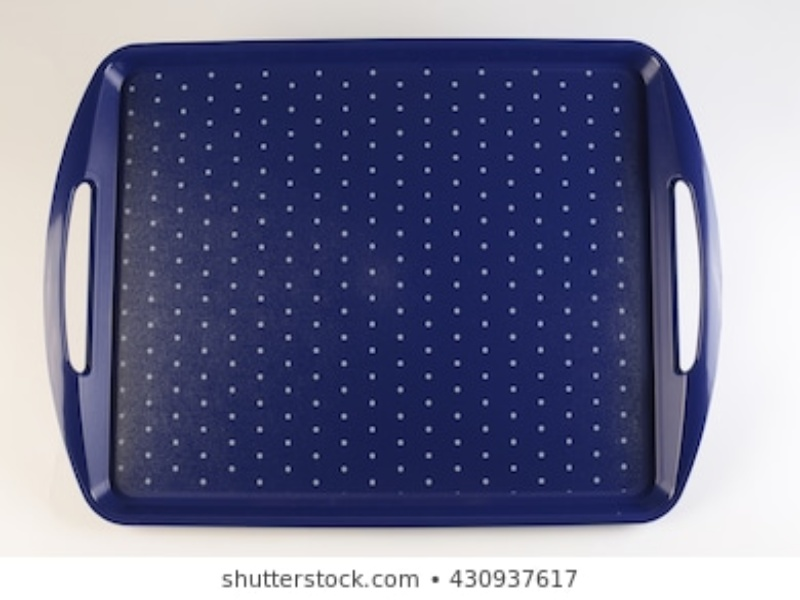plastic-tray: (43, 41, 726, 538)
